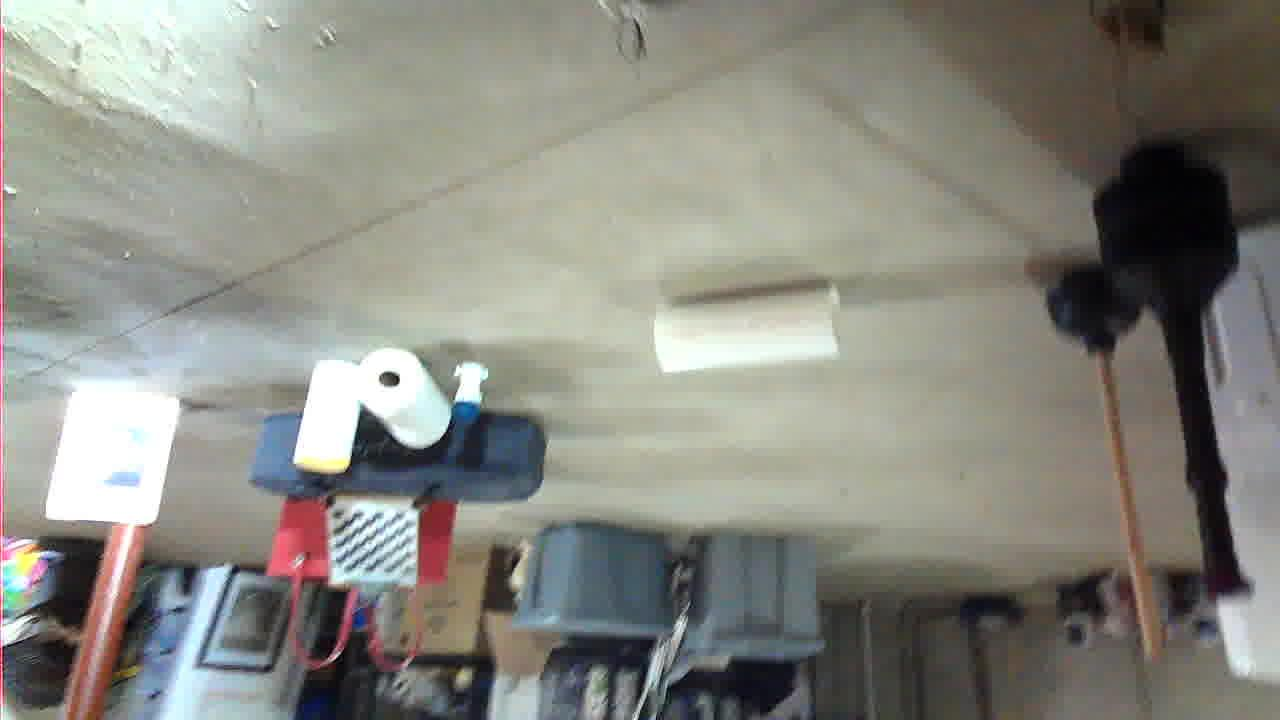coral: (441, 349, 624, 433)
